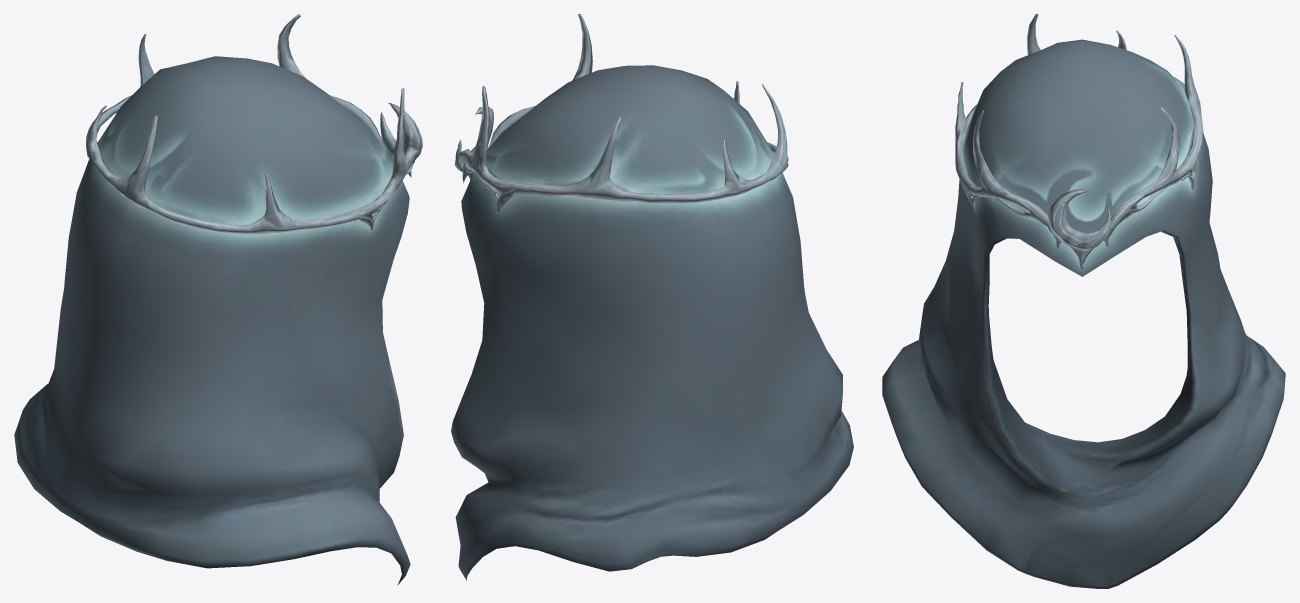
File: necro_helm_moonsilver.glb
The picture shows the model from 3 angles, left to right: view 1: azimuth 30°, elevation 25°; view 2: azimuth 150°, elevation 25°; view 3: azimuth 270°, elevation 25°; orthographic projection. The views are drawn at different scales.
Parts seen in each view (by area): view 1: tripo_node_d58994c7-68c0-4774-89e0-df0491714e6f; view 2: tripo_node_d58994c7-68c0-4774-89e0-df0491714e6f; view 3: tripo_node_d58994c7-68c0-4774-89e0-df0491714e6f.
Boxes of the visible parts, <box> form: tripo_node_d58994c7-68c0-4774-89e0-df0491714e6f: <box>14,14,422,584</box>; tripo_node_d58994c7-68c0-4774-89e0-df0491714e6f: <box>451,14,853,580</box>; tripo_node_d58994c7-68c0-4774-89e0-df0491714e6f: <box>882,14,1285,588</box>.
Size of the model in its own units: 0.666 by 0.998 by 0.7558.
1 material, 1 textured.
